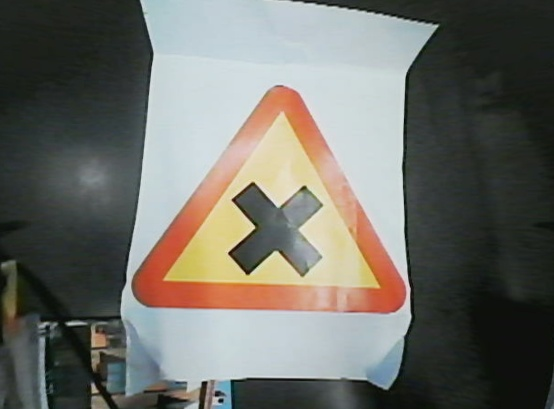junction: (132, 67, 412, 320)
